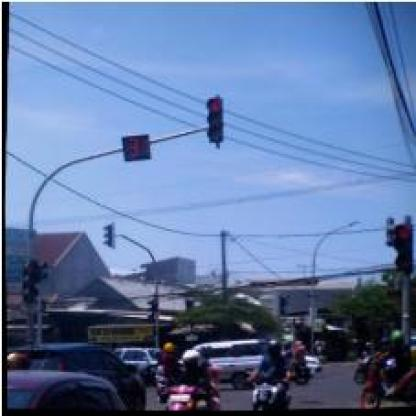red: (393, 224, 413, 271), (203, 95, 222, 143), (20, 261, 40, 303)
